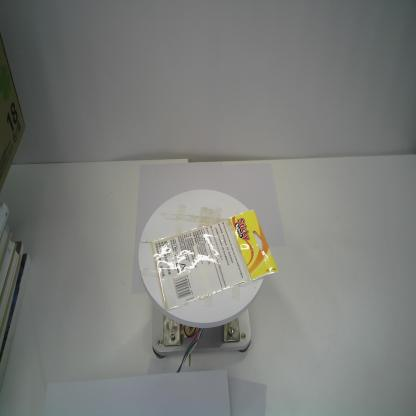Stationery: (151, 209, 279, 312)
